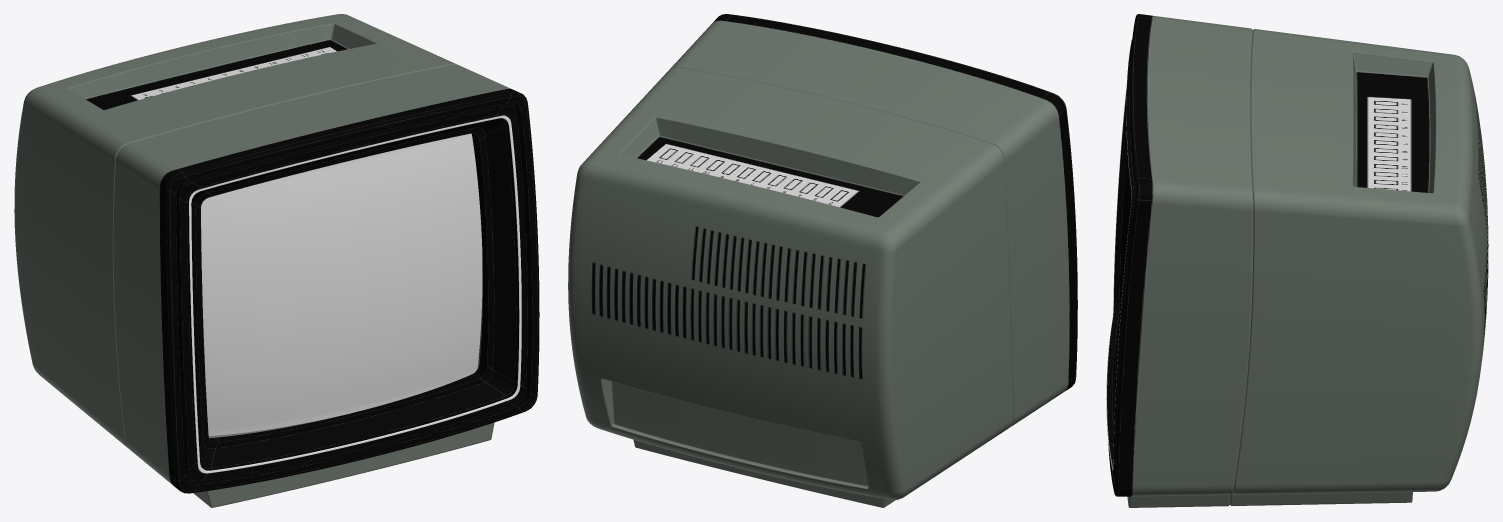
The picture shows the model from 3 angles, left to right: view 1: azimuth 30°, elevation 25°; view 2: azimuth 150°, elevation 25°; view 3: azimuth 270°, elevation 25°; orthographic projection. The views are drawn at different scales.
Parts seen in each view (by area): view 1: TV; view 2: TV; view 3: TV.
Part boxes in pixels (left/top/right/bottom): TV: left=14, top=14, right=539, bottom=507; TV: left=568, top=14, right=1077, bottom=507; TV: left=1106, top=14, right=1488, bottom=507.
Bounding box in the file's own units: 3.12 × 2.78 × 2.76.
Materials: 2 (1 with a texture image).
